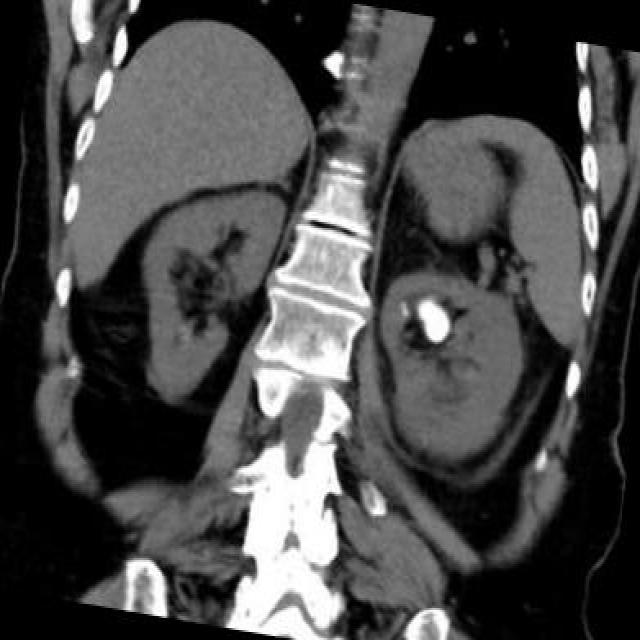Tas_Var: (413, 289, 453, 349), (398, 305, 412, 319), (396, 296, 409, 308)
